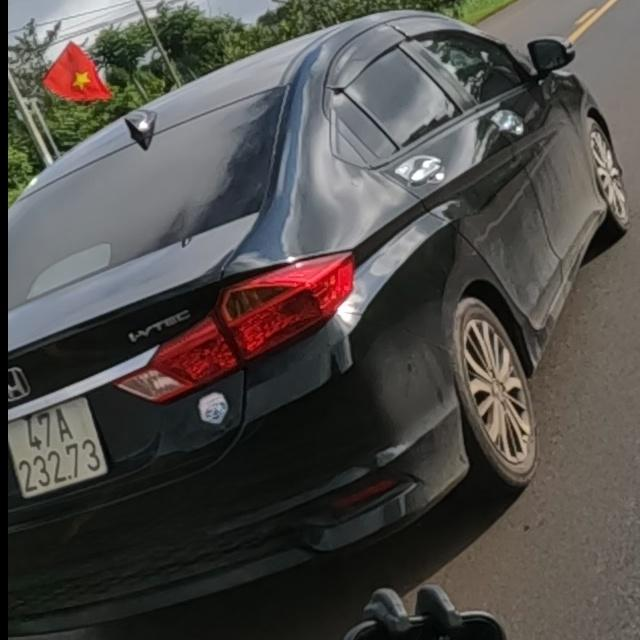license-plate: (7, 397, 109, 503)
